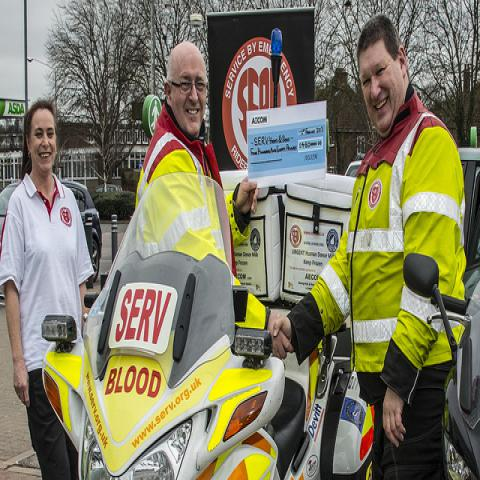car: (0, 181, 105, 283), (92, 184, 136, 196), (346, 160, 360, 180)
motorcycle: (41, 173, 376, 475), (404, 251, 480, 474)
